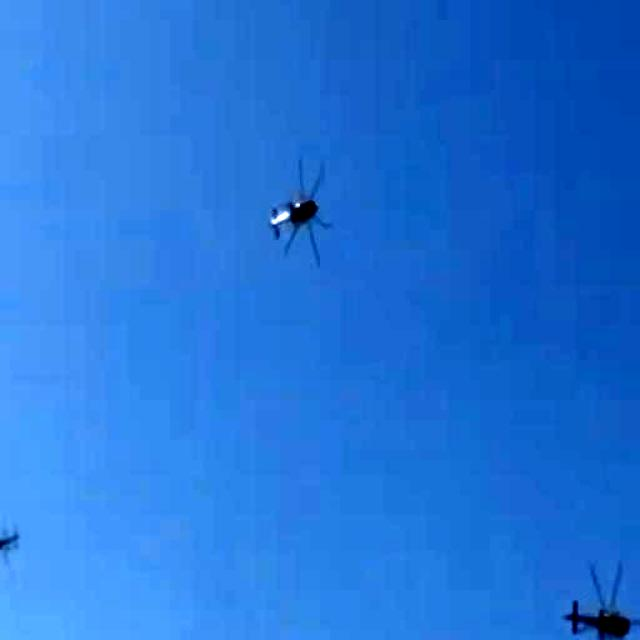drone: (548, 561, 640, 640), (271, 164, 335, 258), (0, 510, 8, 561)
